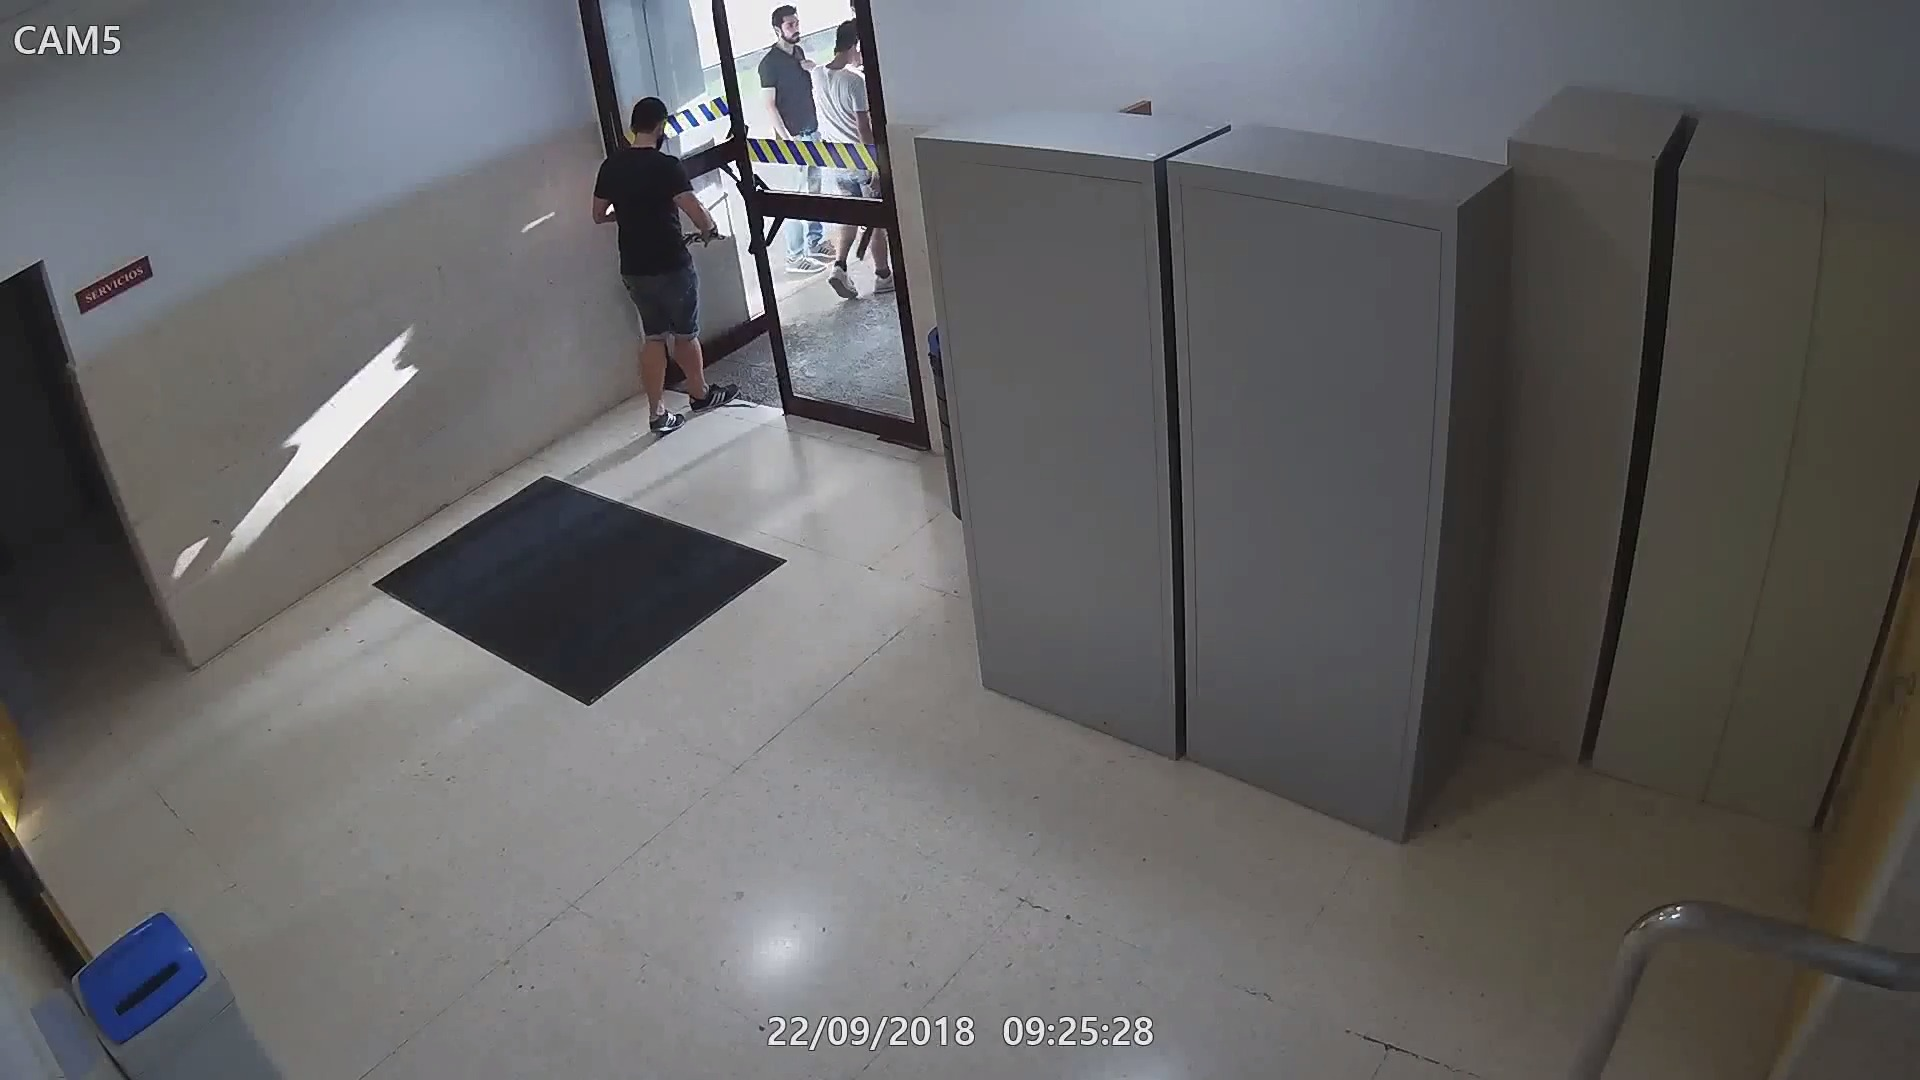Handgun: (680, 222, 731, 247)
Short_rifle: (855, 222, 876, 262)
